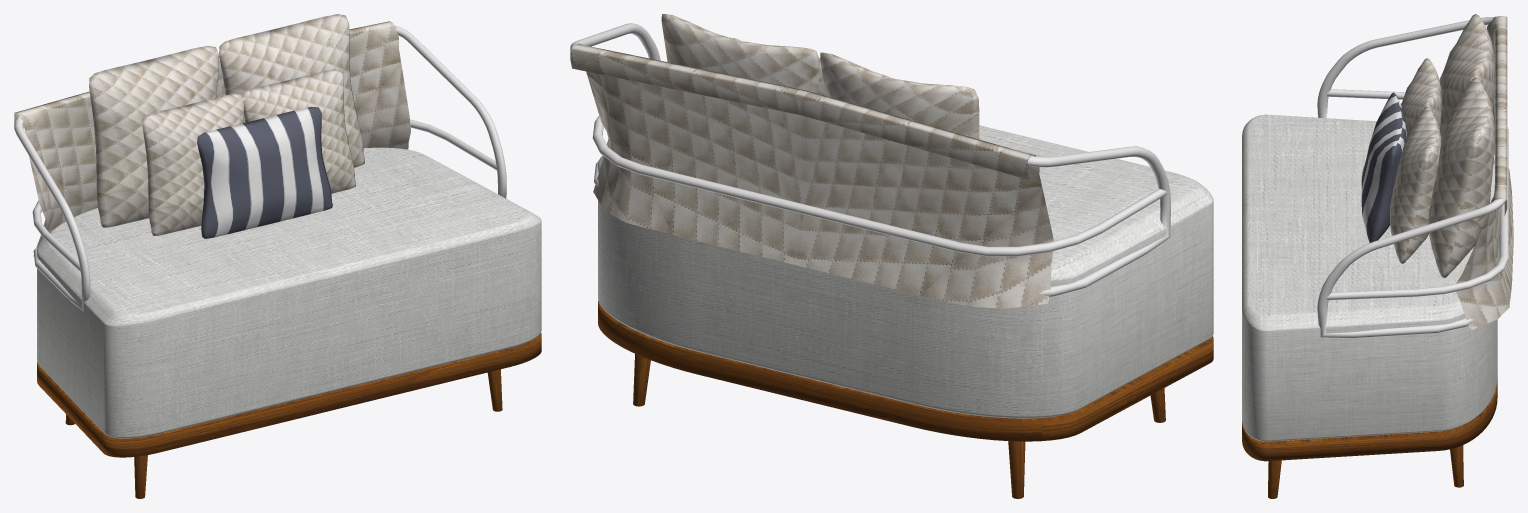
File: LoettaSofa.glb
3 views of the same model, side by side, from view 1: azimuth 30°, elevation 25°; view 2: azimuth 150°, elevation 25°; view 3: azimuth 270°, elevation 25° (orthographic). The views are drawn at different scales.
Parts seen in each view (by area): view 1: Cube.002, Cube.005, Cube.006, Cube.008, Cube.007, Cube.003, Plane.002, Plane.003, Cylinder; view 2: Cube.002, Cube.008, Cube.003, Cube.005, Plane.003, Plane.002, Cylinder; view 3: Cube.002, Cube.005, Cube.008, Cube.006, Plane.002, Cube.003, Cube.007, Plane.003, Cylinder.
Part boxes in pixels (x1,y1,x2,y2): Cube.002: (37,147,541,438); Cube.005: (89,14,364,227); Cube.006: (142,69,355,235); Cube.008: (14,21,410,256); Cube.007: (197,106,332,238); Cube.003: (37,333,541,457); Plane.002: (14,26,506,311); Plane.003: (32,119,496,271); Cylinder: (65,369,502,498); Cube.002: (598,125,1213,418); Cube.008: (570,43,1053,308); Cube.003: (598,301,1213,441); Cube.005: (661,14,979,139); Plane.003: (592,116,1167,256); Plane.002: (570,23,1170,296); Cylinder: (633,354,1165,498); Cube.002: (1242,114,1497,441); Cube.005: (1428,14,1494,277); Cube.008: (1456,15,1513,330); Cube.006: (1390,58,1441,263); Plane.002: (1317,17,1506,337); Cube.003: (1242,377,1497,461); Cube.007: (1361,92,1406,242); Plane.003: (1325,89,1508,300); Cylinder: (1268,445,1463,498).
Bounding box in the file's own units: 1.18 × 0.8683 × 0.6385.
5 materials, 4 textured.
